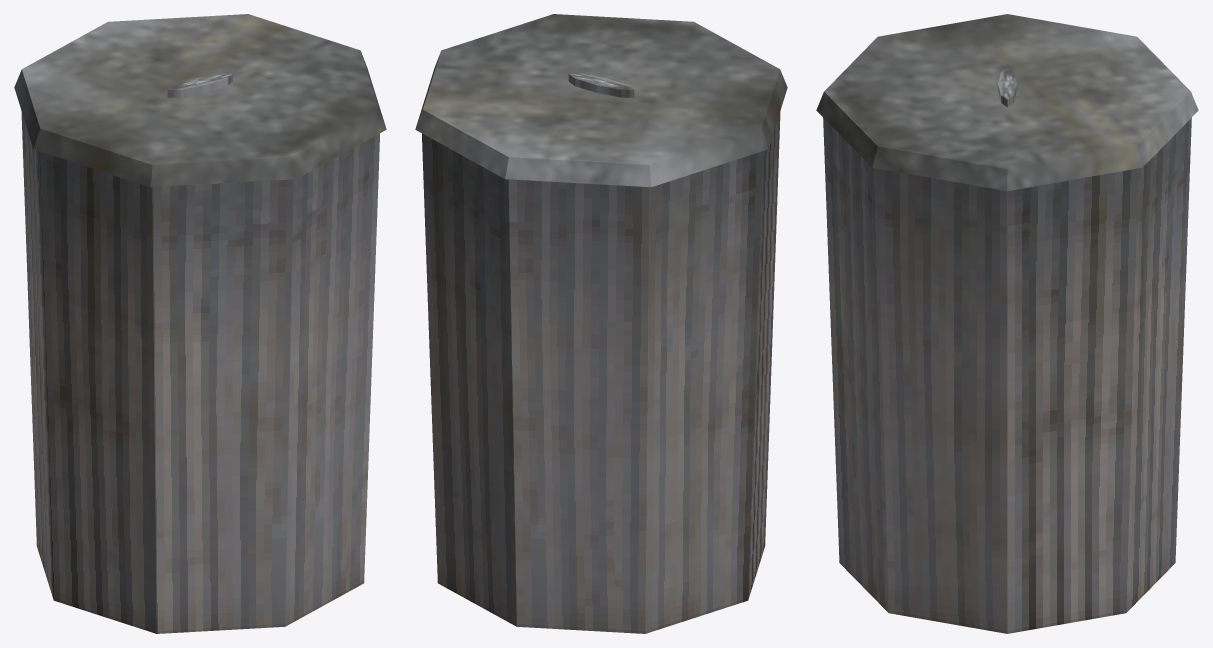
The model's file is GarbageCan.fbx.
The picture shows the model from 3 angles, left to right: view 1: azimuth 30°, elevation 25°; view 2: azimuth 150°, elevation 25°; view 3: azimuth 270°, elevation 25°; orthographic projection.
Parts seen in each view (by area): view 1: Cylinder.001; view 2: Cylinder.001; view 3: Cylinder.001.
Boxes of the visible parts, <box> form: Cylinder.001: <box>14,14,386,633</box>; Cylinder.001: <box>415,14,787,633</box>; Cylinder.001: <box>816,14,1198,633</box>.
Size of the model in its own units: 76.59 by 106 by 76.59.
